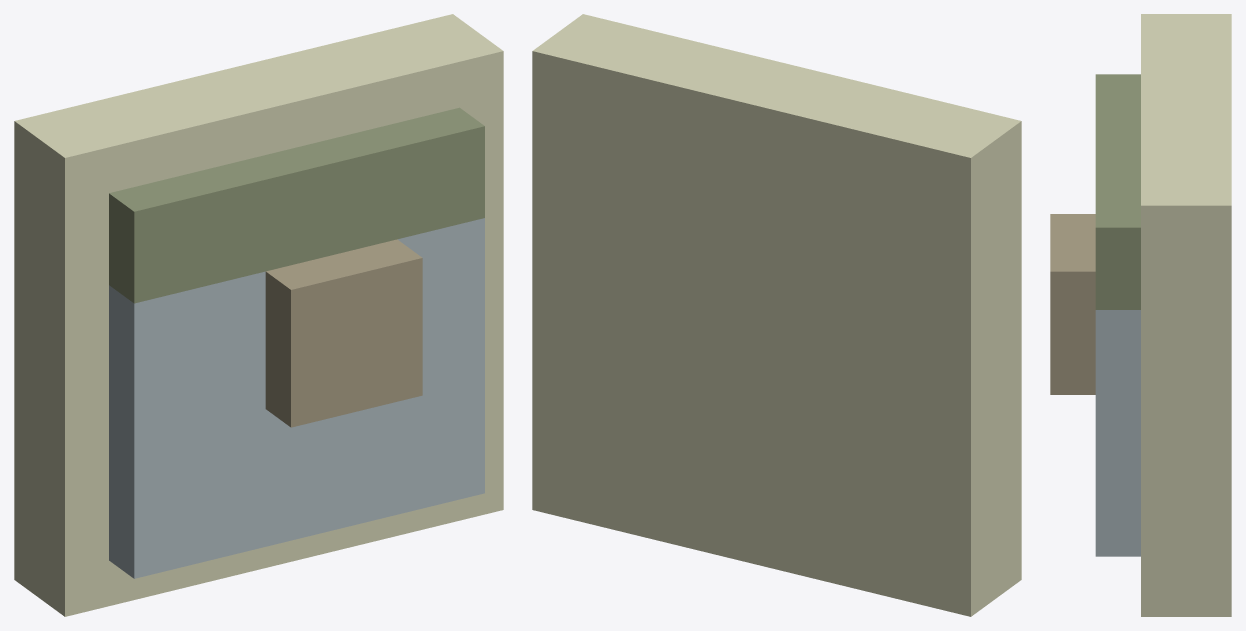
Rendered from cuadro_paisaje_marco_pino_01.glb.
3 views of the same model, side by side, from view 1: azimuth 30°, elevation 25°; view 2: azimuth 150°, elevation 25°; view 3: azimuth 270°, elevation 25° (orthographic). The views are drawn at different scales.
Visible parts, largest first — view 1: cuadro_paisaje_marco_pino; view 2: cuadro_paisaje_marco_pino; view 3: cuadro_paisaje_marco_pino.
Boxes of the visible parts, box(x1,y1,x2,y2) form: cuadro_paisaje_marco_pino: box(14, 14, 503, 616); cuadro_paisaje_marco_pino: box(532, 14, 1021, 616); cuadro_paisaje_marco_pino: box(1050, 14, 1231, 616).
Size of the model in its own units: 1 by 1 by 0.4.
